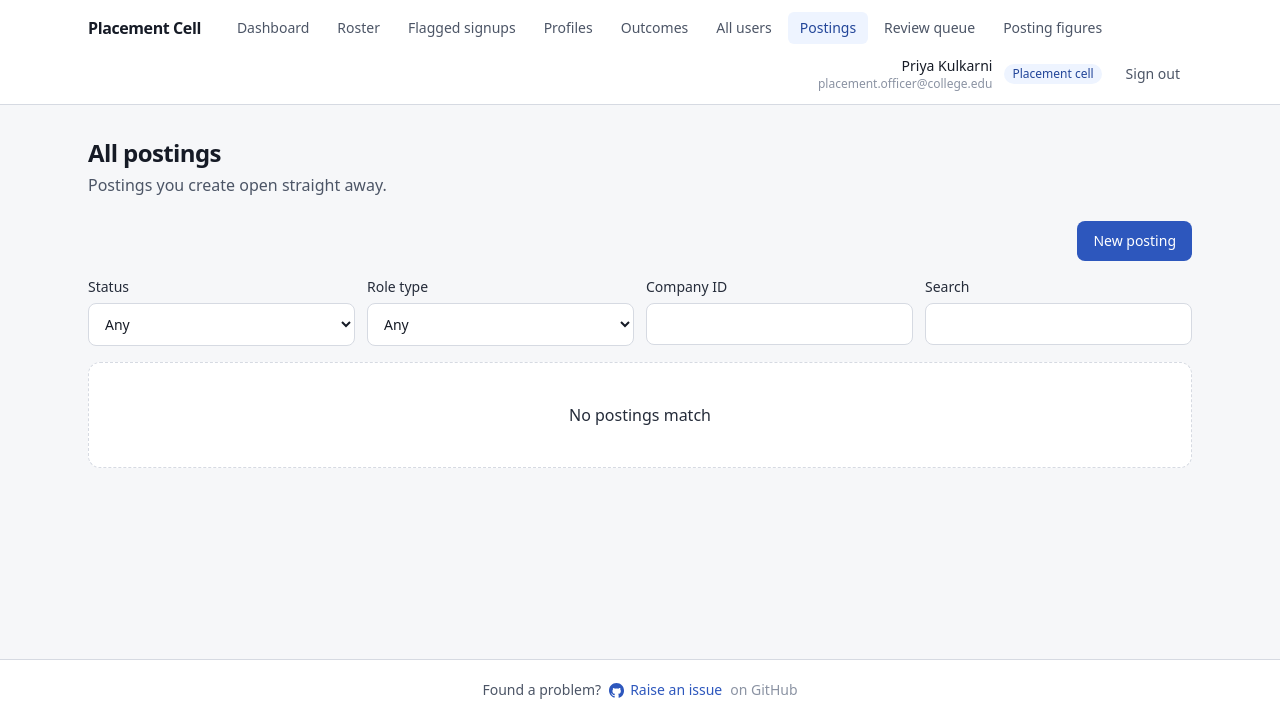
it: admin all postings › creates a posting for a company, sending the company id
Click the button "New posting": (1135, 241) [1077,221,1192,261]
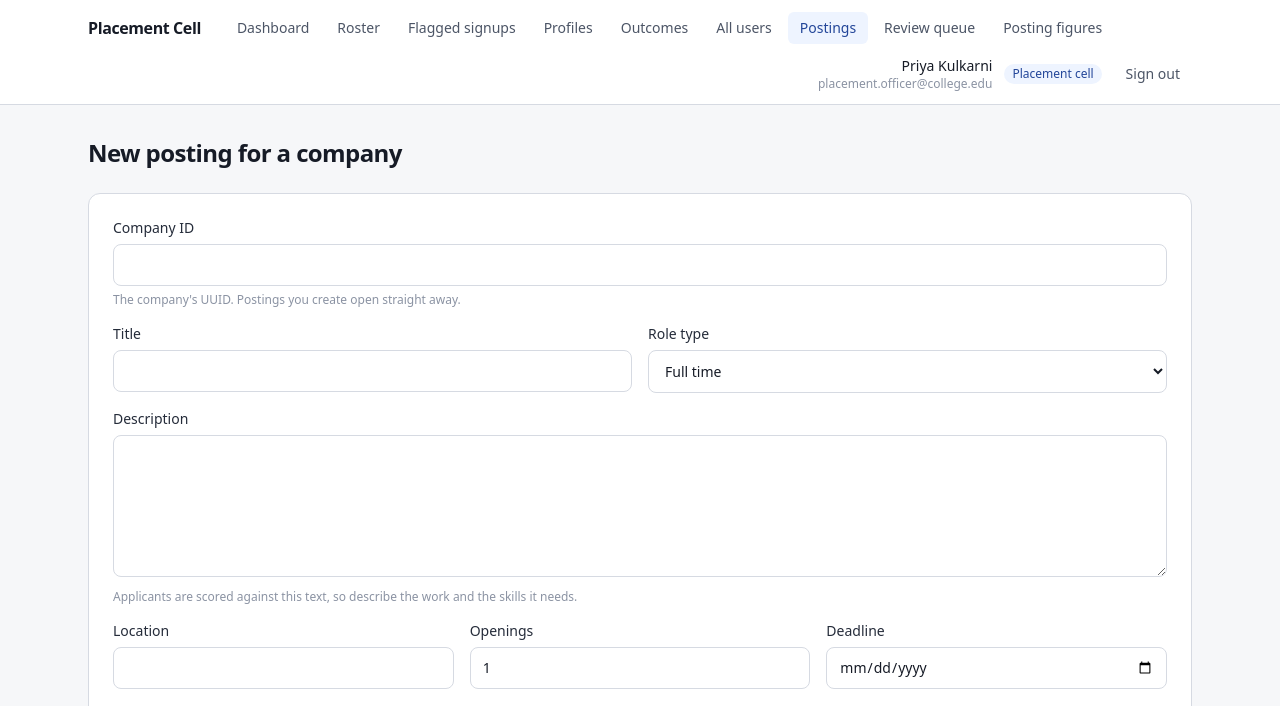
Note: Without a company the form refuses before calling the server.
In the field labelled "Title": (372, 371) [113,350,632,392], type "Platform Engineer"
In the text box labelled "Description": (640, 506) [113,435,1167,577], type "Run the platform."
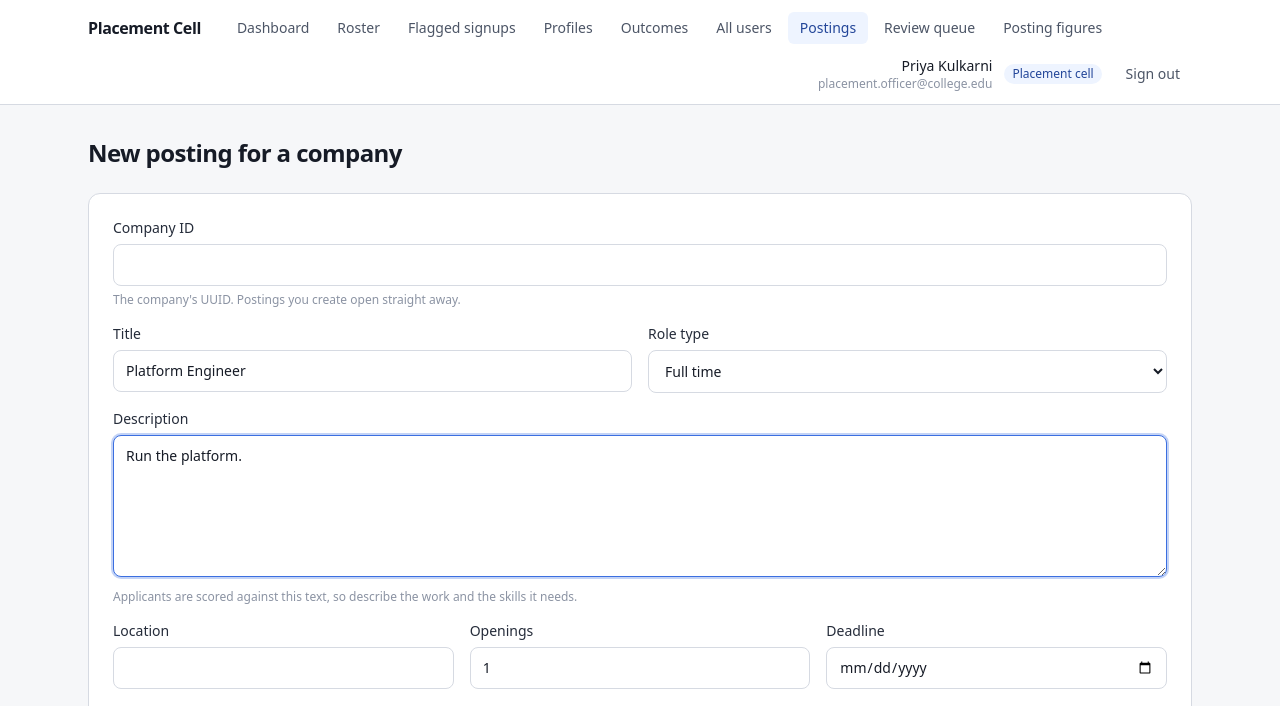
In the date field labelled "Deadline": (997, 668) [826,647,1167,689], type "2026-12-31"
(page scrolled)
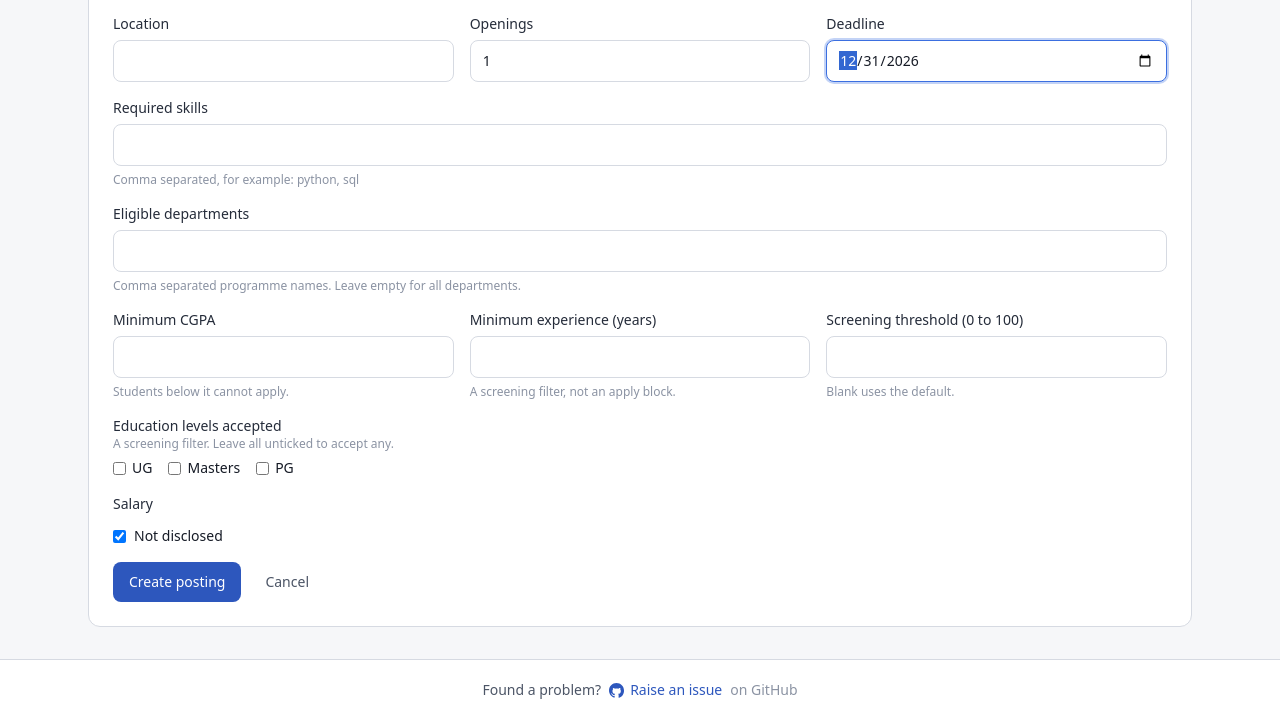
Click the button "Create posting": (177, 582) [113,562,241,602]
(page scrolled)
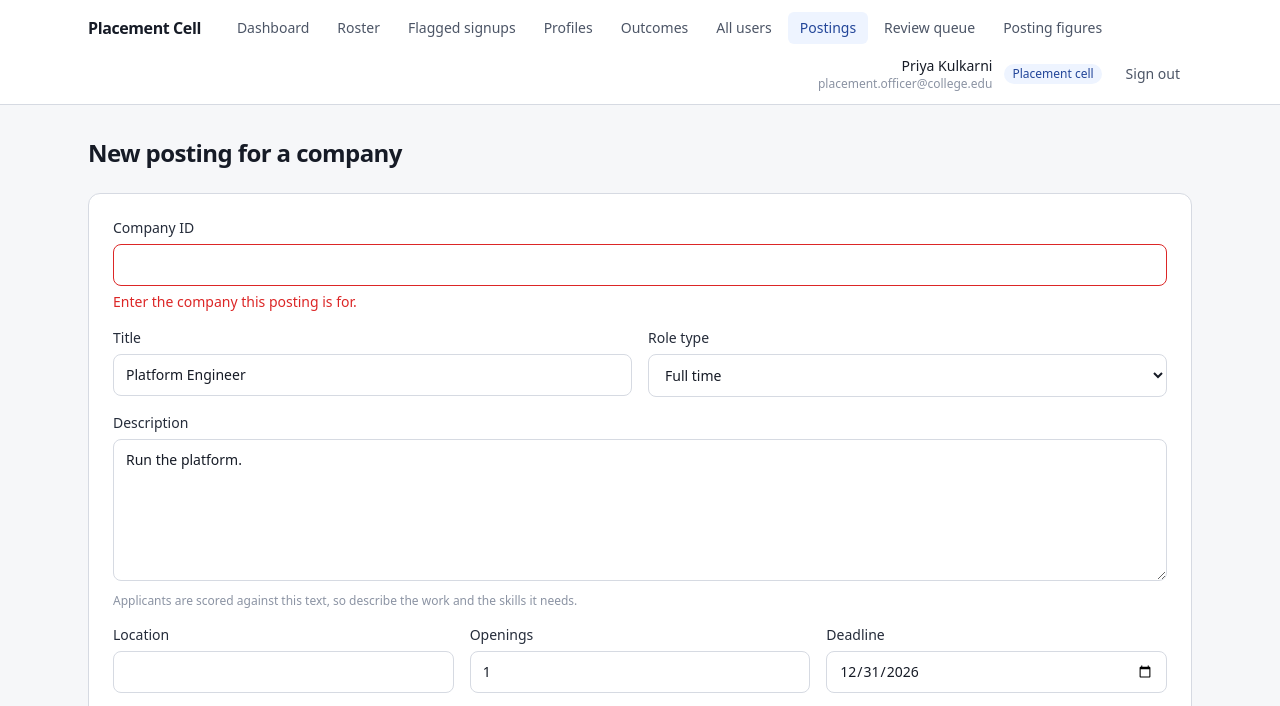
Now the text "Enter the company this posting is for." is shown, box [113,292,357,311]
In the field labelled "Company ID": (640, 265) [113,244,1167,286], type "7a1b2c3d-0000-4000-8000-00000000c0de"
(page scrolled)
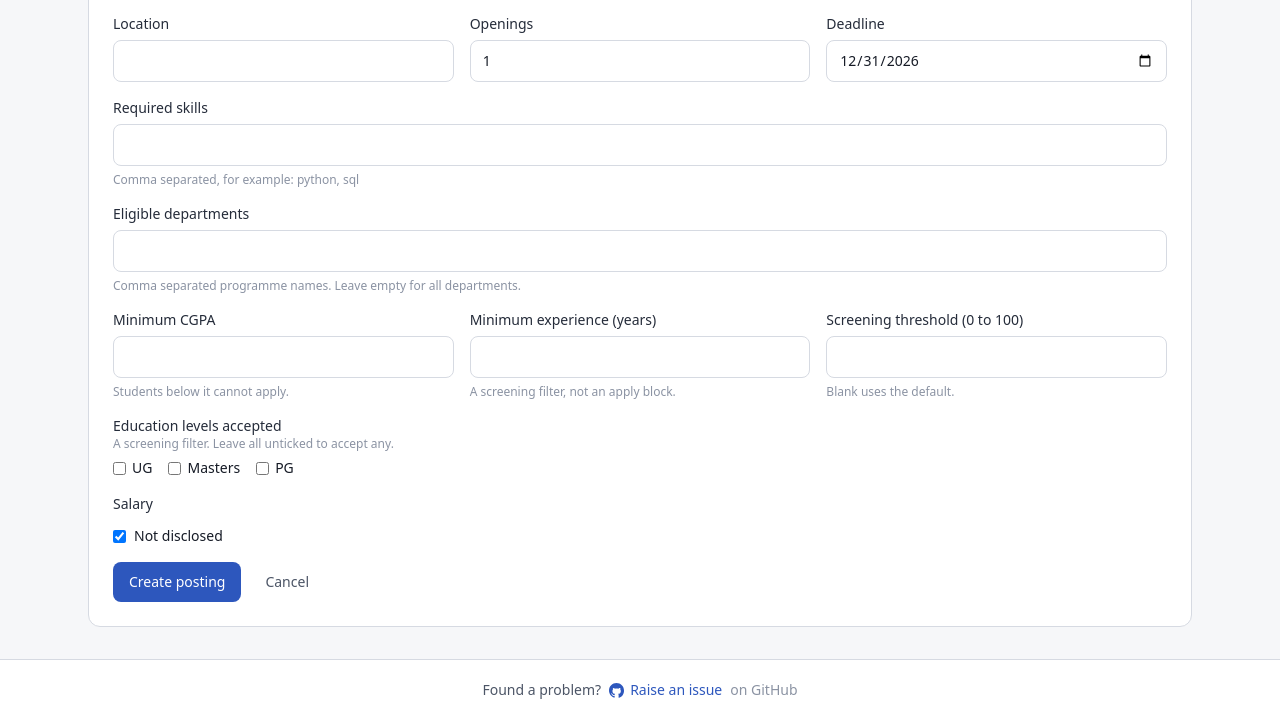
Click the button "Create posting": (177, 582) [113,562,241,602]
(page scrolled)
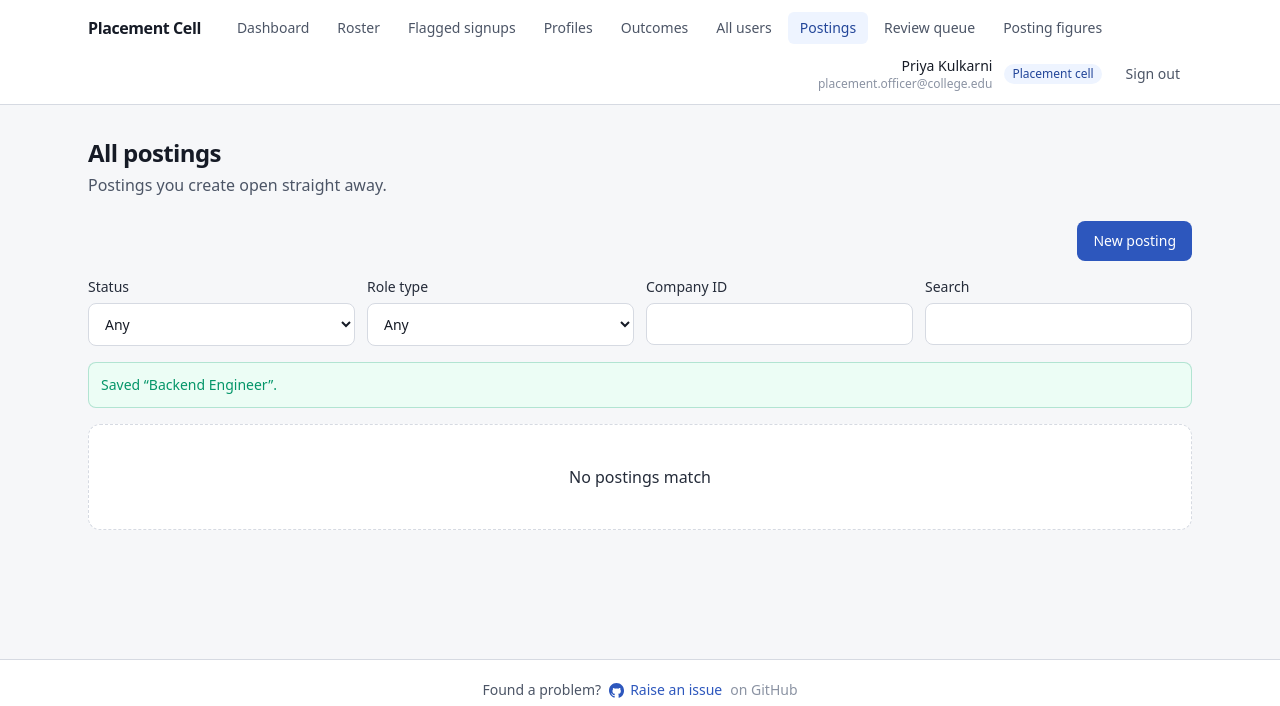
Now the text "Saved “Backend Engineer”." is shown, box [101,375,277,394]
